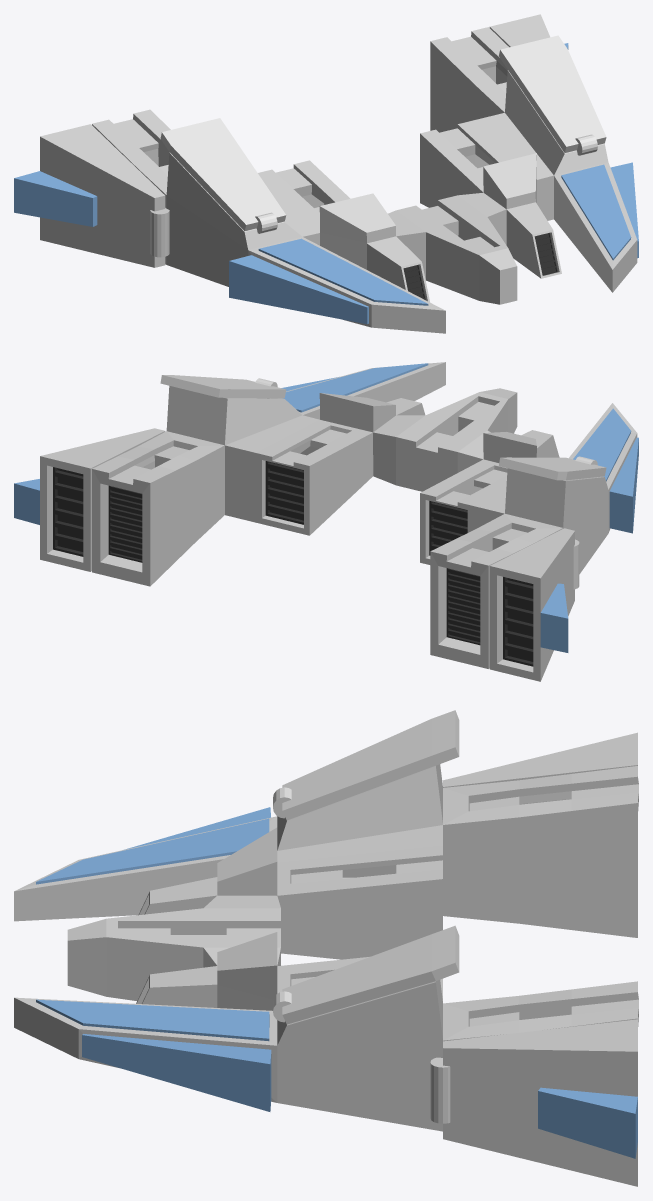
The model's file is connector.fbx.
3 views of the same model, one above another, from view 1: azimuth 30°, elevation 25°; view 2: azimuth 150°, elevation 25°; view 3: azimuth 270°, elevation 25° (orthographic). The views are drawn at different scales.
Visible parts, largest first — view 1: main, valve1, valve2; view 2: main, valve1, valve2; view 3: main, valve1, valve2.
Part boxes in pixels (x1,y1,x2,y2): main: [92, 27, 638, 333]; valve1: [14, 14, 568, 267]; valve2: [160, 35, 606, 233]; main: [92, 362, 638, 668]; valve1: [14, 428, 579, 681]; valve2: [160, 375, 606, 480]; main: [14, 764, 638, 1131]; valve1: [430, 732, 637, 1186]; valve2: [273, 710, 459, 1024].
Size of the model in its own units: 2397 by 604 by 1792.
